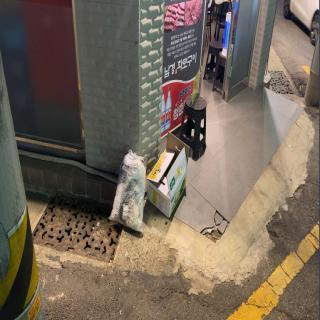Garbage: (108, 144, 147, 238)
